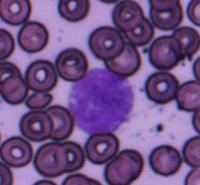B: (67, 67, 136, 134)
